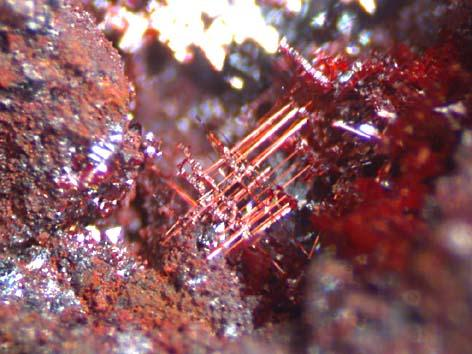cuprite: (0, 1, 466, 352)
